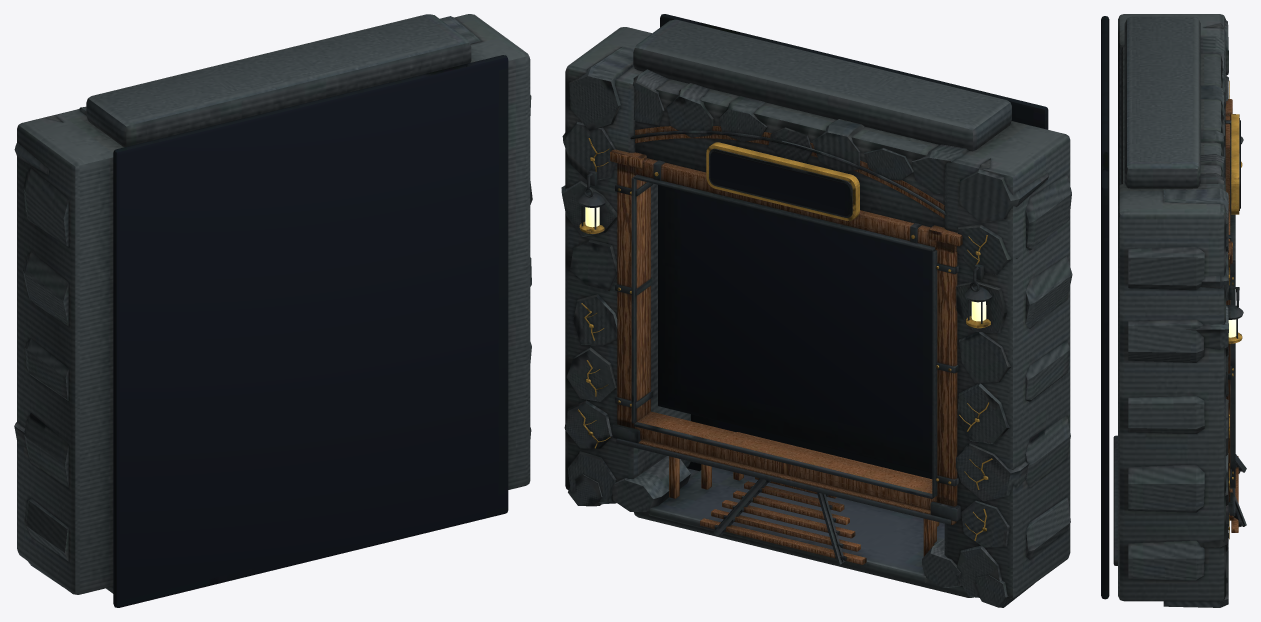
3 views of the same model, side by side, from view 1: azimuth 30°, elevation 25°; view 2: azimuth 150°, elevation 25°; view 3: azimuth 270°, elevation 25° (orthographic). The views are drawn at different scales.
Visible parts, largest first — view 1: Even_inset_darkness, Fractured_charcoal_slate; view 2: Fractured_charcoal_slate, Even_inset_darkness, Weathered_oak, Forged_iron, Native_gold; view 3: Fractured_charcoal_slate, Even_inset_darkness, Forged_iron, Weathered_oak, Native_gold.
Boxes of the visible parts, bbox=[...] form: Even_inset_darkness: bbox=[113, 55, 508, 607]; Fractured_charcoal_slate: bbox=[14, 14, 532, 594]; Fractured_charcoal_slate: bbox=[561, 19, 1072, 607]; Even_inset_darkness: bbox=[658, 14, 1048, 479]; Weathered_oak: bbox=[610, 126, 962, 564]; Forged_iron: bbox=[578, 130, 992, 565]; Native_gold: bbox=[577, 138, 992, 540]; Fractured_charcoal_slate: bbox=[1113, 14, 1228, 607]; Even_inset_darkness: bbox=[1101, 16, 1240, 599]; Forged_iron: bbox=[1223, 92, 1246, 526]; Weathered_oak: bbox=[1225, 99, 1238, 532]; Native_gold: bbox=[1228, 80, 1242, 539].
Bounding box in the file's own units: 10.65 × 10.4 × 3.17.
Materials: 6 (5 with a texture image).
